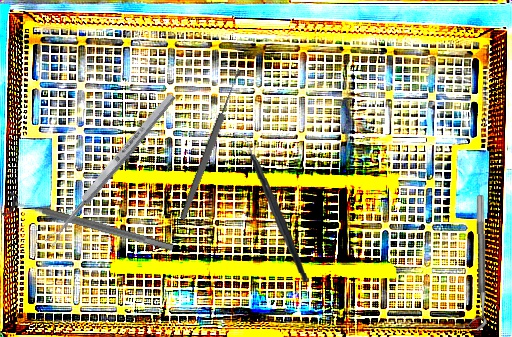Chopper: (233, 128, 309, 286)
Fixation Ring: (1, 189, 177, 262), (464, 194, 488, 332)
Surgical Spoon: (43, 91, 178, 248), (178, 68, 244, 221)
